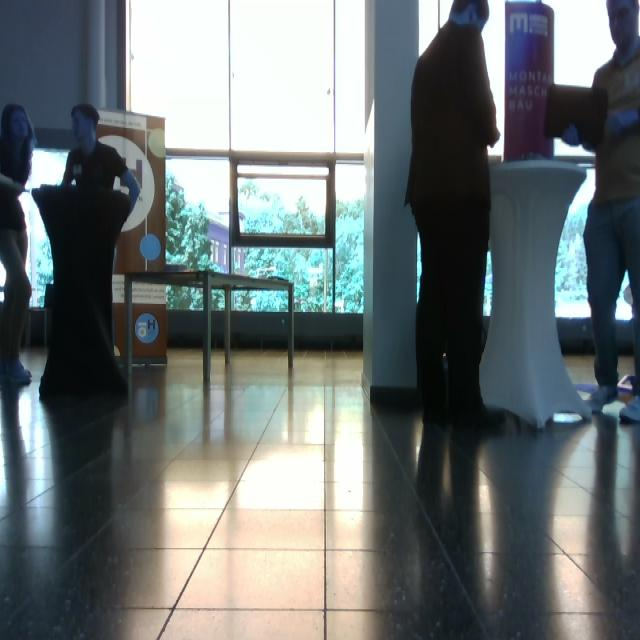light bulb: (544, 82, 608, 152), (140, 233, 162, 261), (148, 128, 166, 160)
person: (405, 1, 506, 430), (561, 1, 640, 424), (1, 104, 37, 385)
pillar: (362, 1, 420, 401)
tiled floor: (2, 344, 639, 638)
window: (125, 1, 368, 318)
